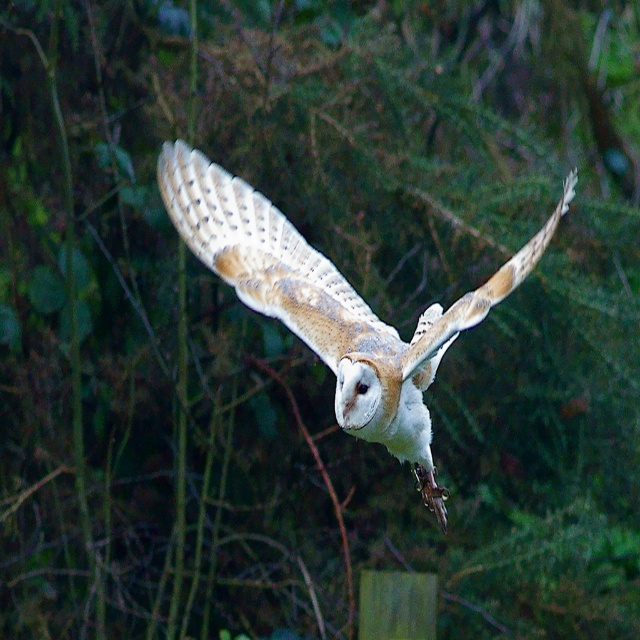Owl: (155, 138, 579, 534)
